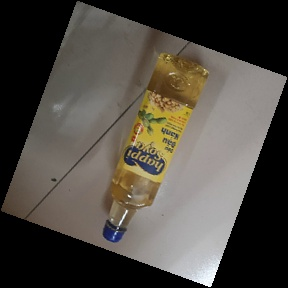Happy Soya: (102, 51, 209, 242)
